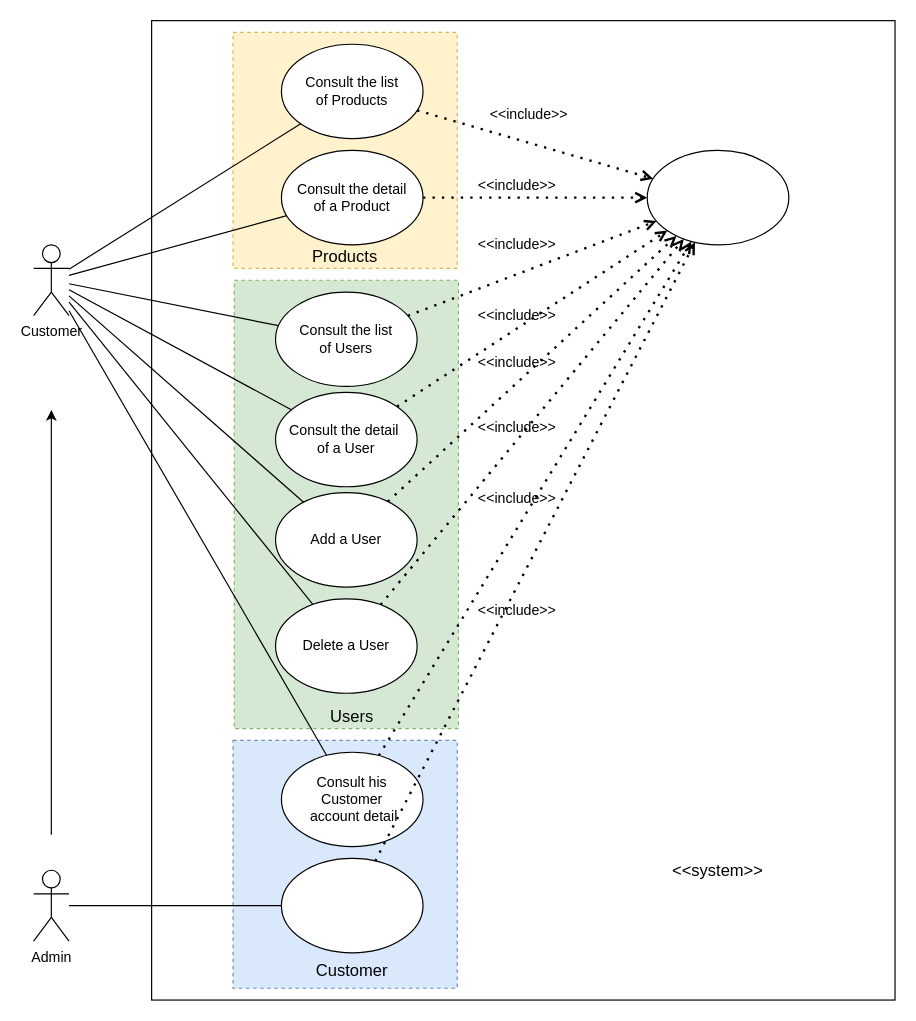
The diagram is 916 pixels wide and 1021 high, and some of its shapes have lost their labels. The shapes that lost their labels are listed below. From the top down, each one's box as (x1, y1, x2, y2) in pixels, then its label:
(646, 149, 789, 245): Login
(280, 857, 423, 953): Consult the list of customers
